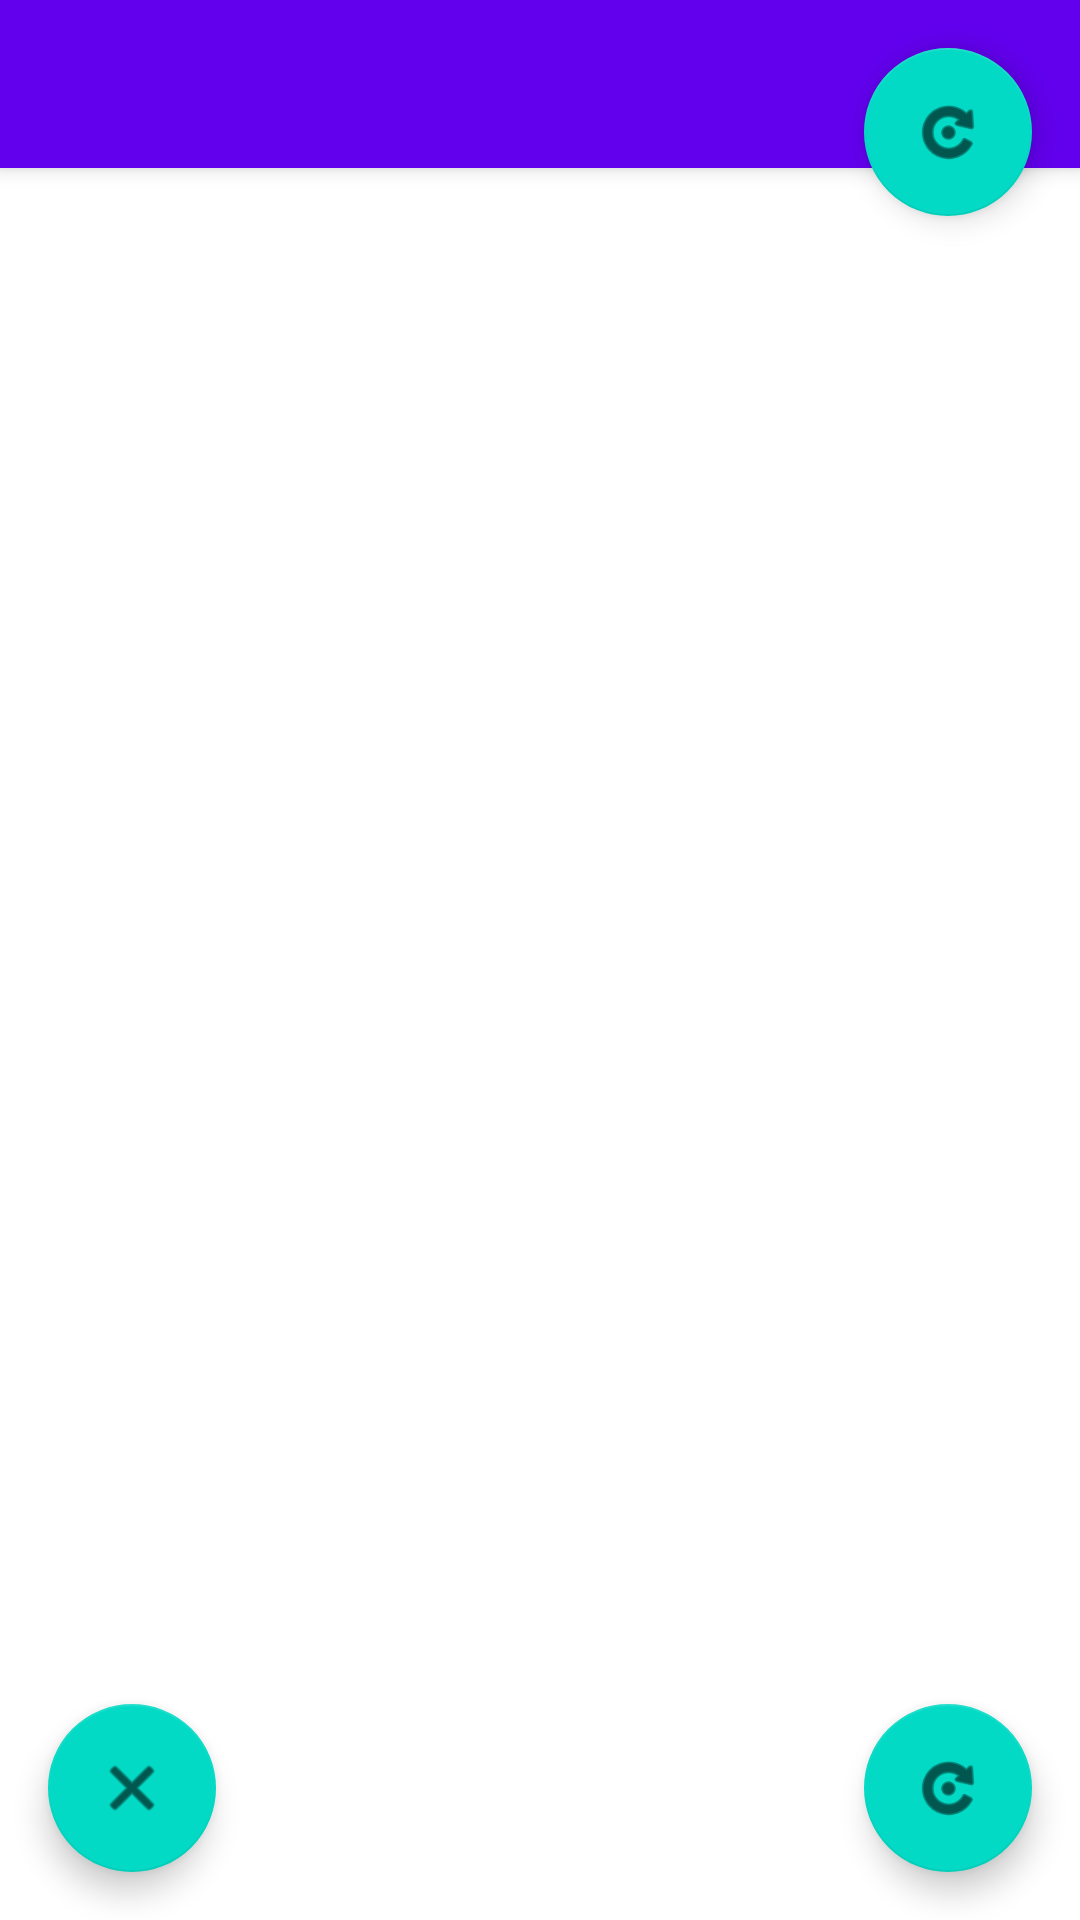

Icon click points for this 1080px×1920px phone screenshot, format (x=x, y=y):
close clear cancel: (x=132, y=1788)
rotate: (x=948, y=132), (x=948, y=1788)
